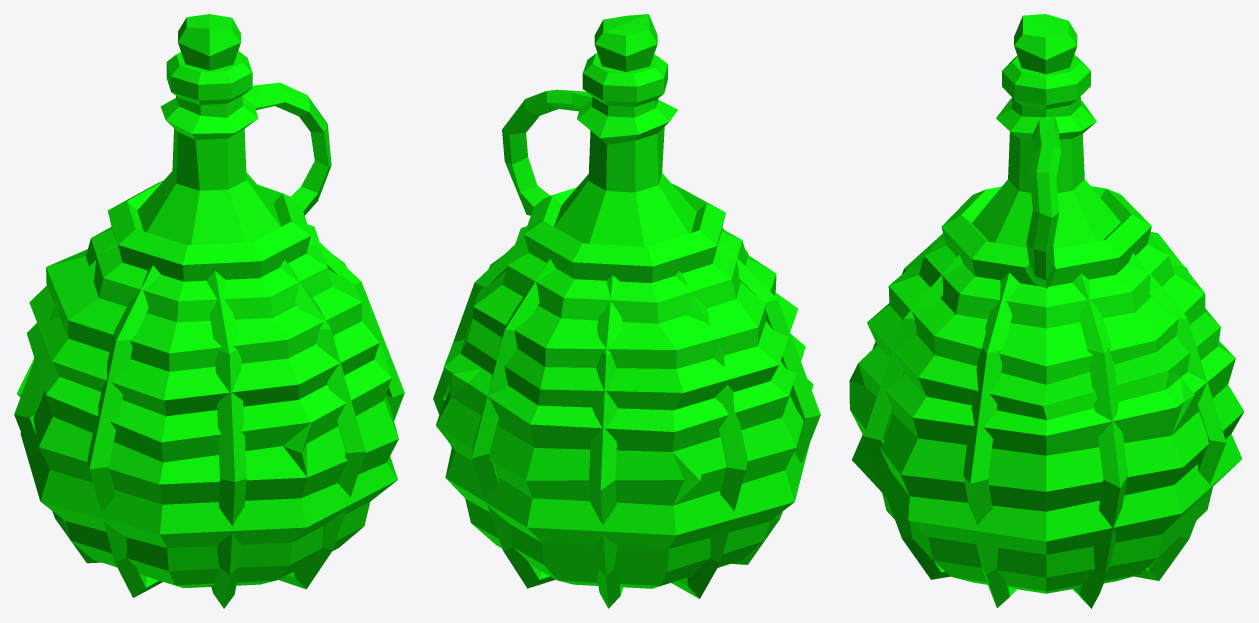
Rendered from SM_Bottle_Fantasy_Wicker_A.fbx.
The picture shows the model from 3 angles, left to right: view 1: azimuth 30°, elevation 25°; view 2: azimuth 150°, elevation 25°; view 3: azimuth 270°, elevation 25°; orthographic projection.
Visible parts, largest first — view 1: bottle-fantasy-wicker-a; view 2: bottle-fantasy-wicker-a; view 3: bottle-fantasy-wicker-a.
Part boxes in pixels (<box>): bottle-fantasy-wicker-a: <box>14,14,404,608</box>; bottle-fantasy-wicker-a: <box>433,14,820,608</box>; bottle-fantasy-wicker-a: <box>849,14,1244,608</box>.
Bounding box in the file's own units: 0.3981 × 0.6091 × 0.4005.
